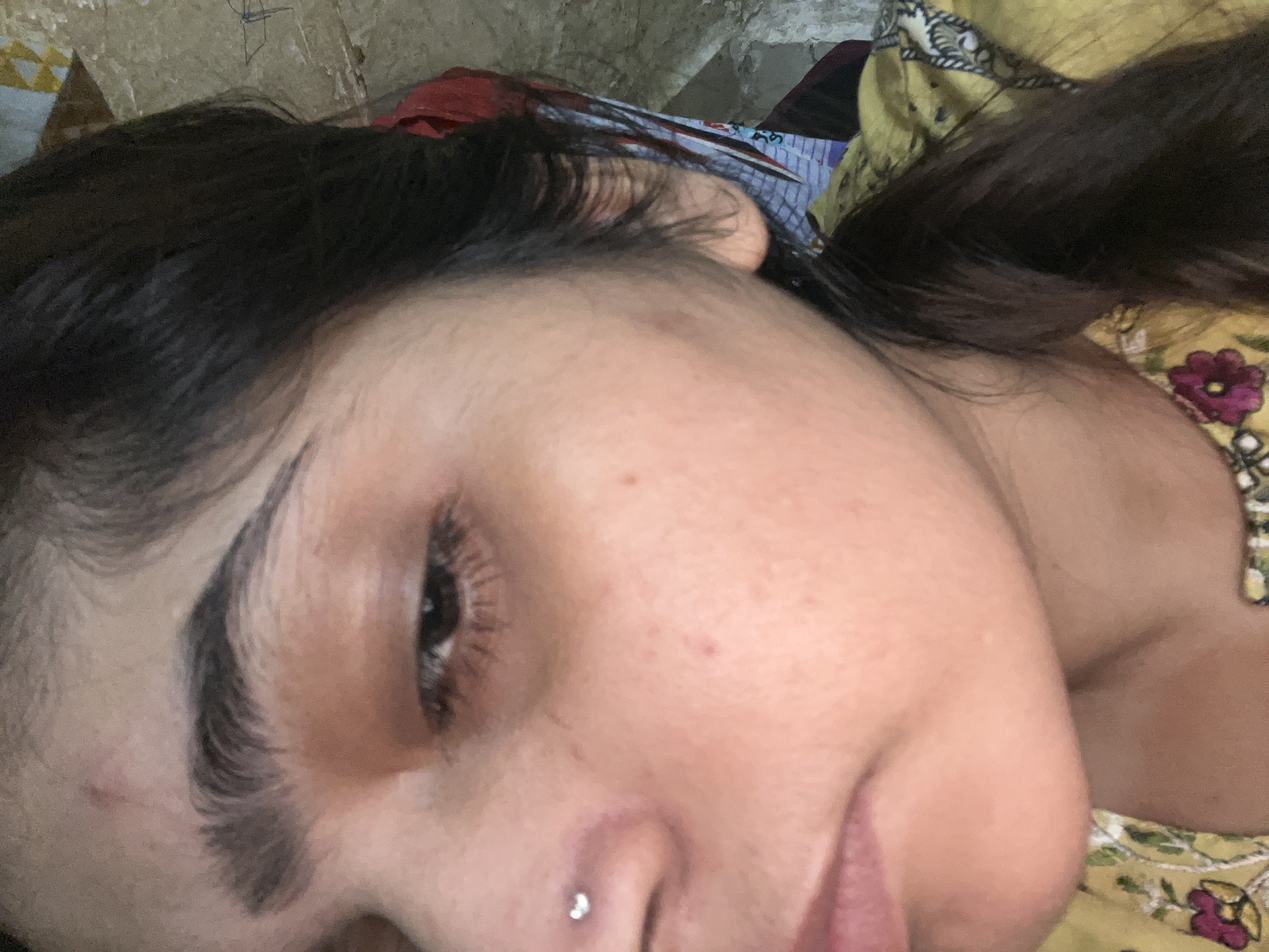papule: (72, 776, 132, 812)
